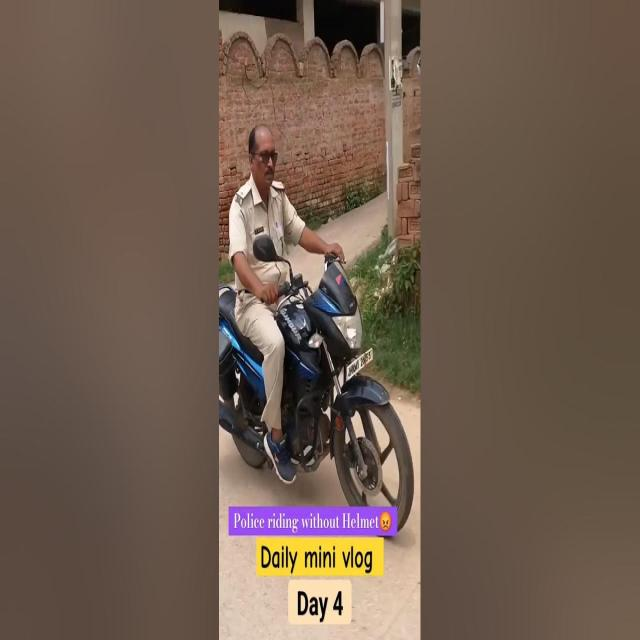without helmet: (241, 113, 281, 208)
